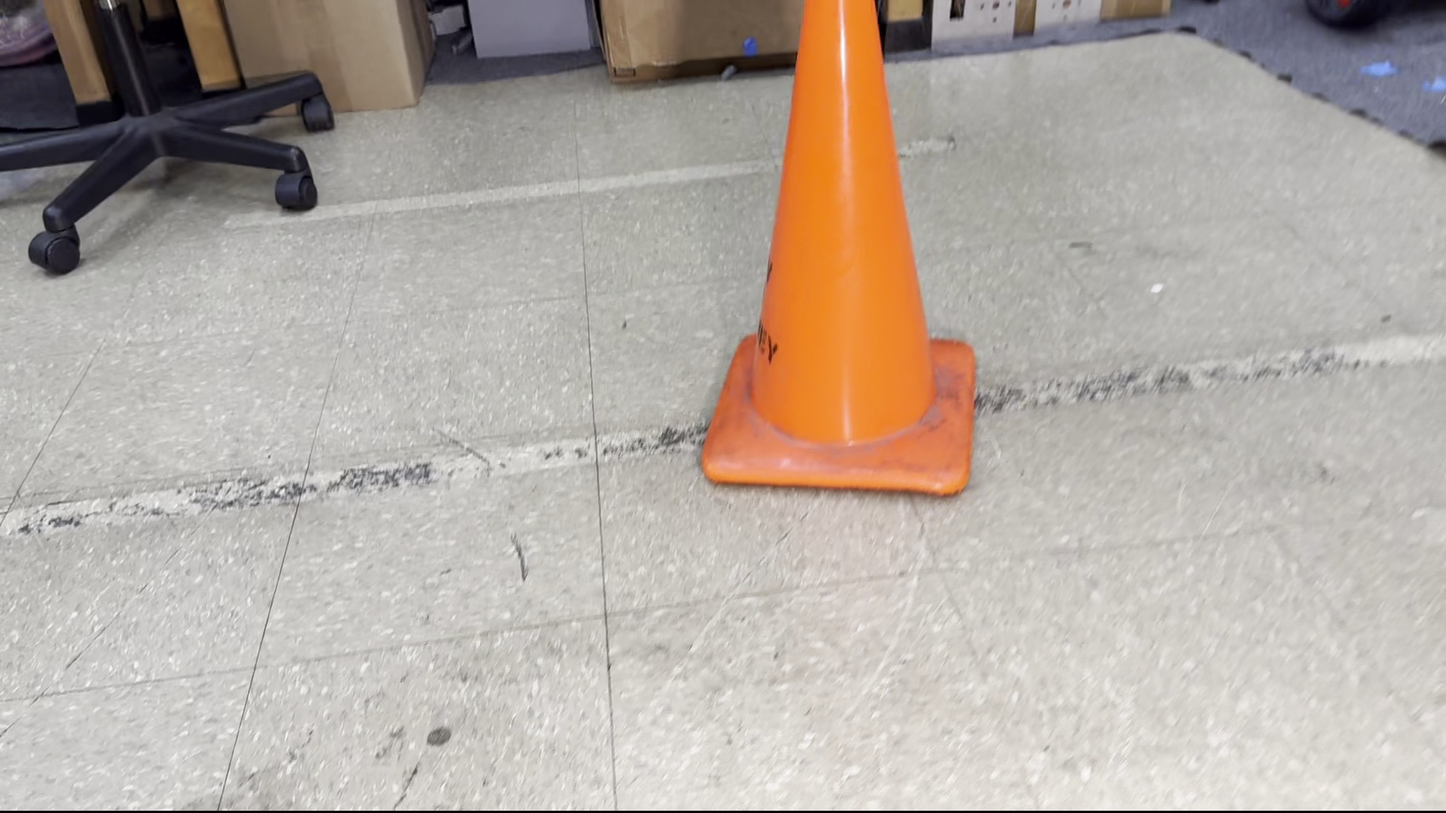traffic_cone: (700, 0, 977, 497)
